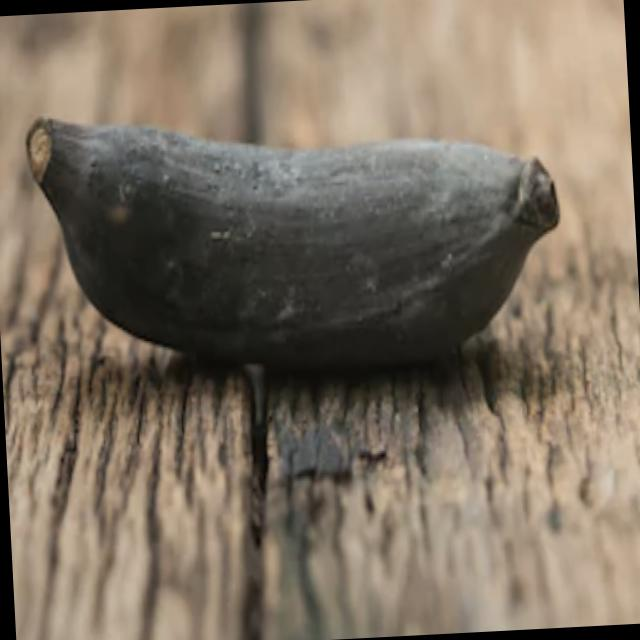rotten-banana: (51, 92, 556, 381)
